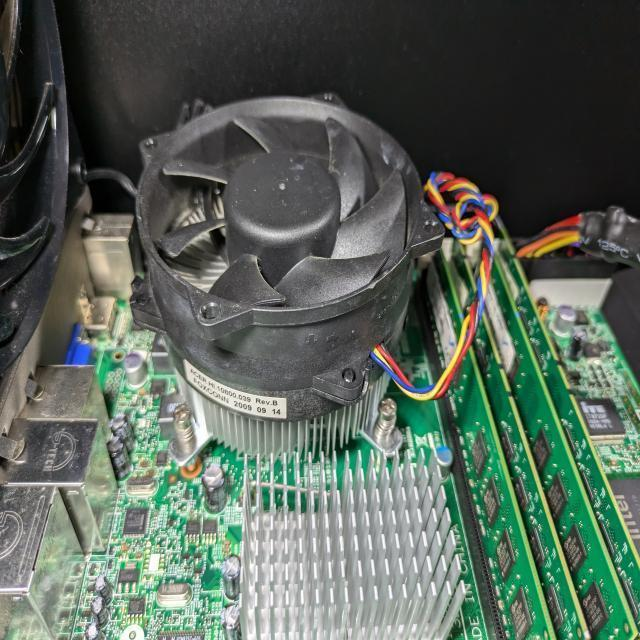CPU_Fan: (130, 92, 446, 465)
Mainboard: (0, 271, 639, 640)
RAM: (473, 239, 638, 640), (495, 227, 640, 639), (449, 238, 591, 640), (427, 249, 558, 640)
